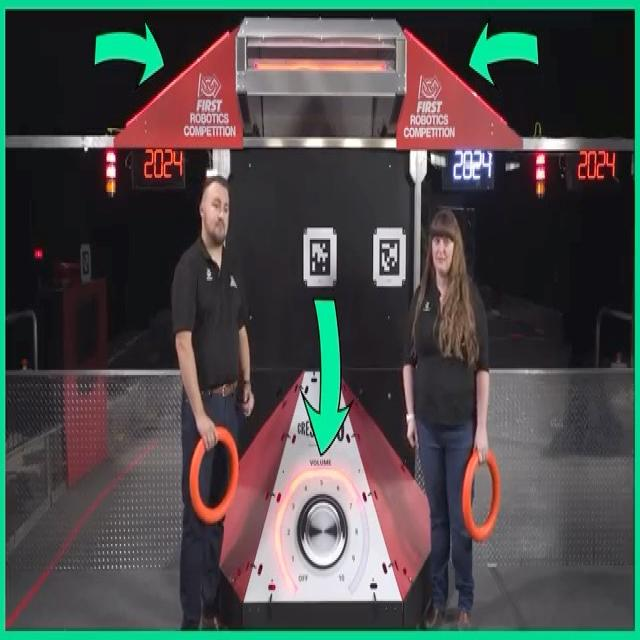note: (186, 423, 241, 528), (461, 448, 501, 544)
